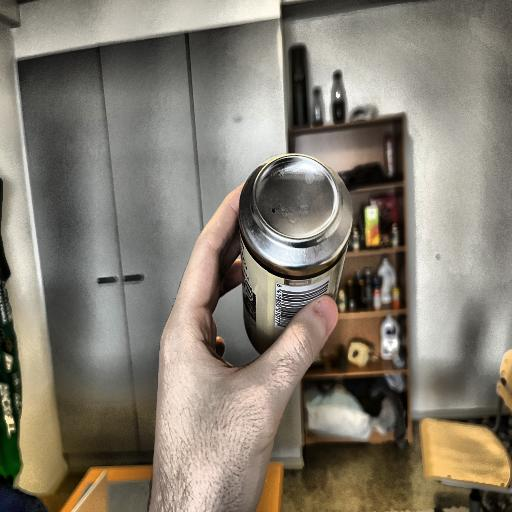sandels: (240, 148, 350, 369)
